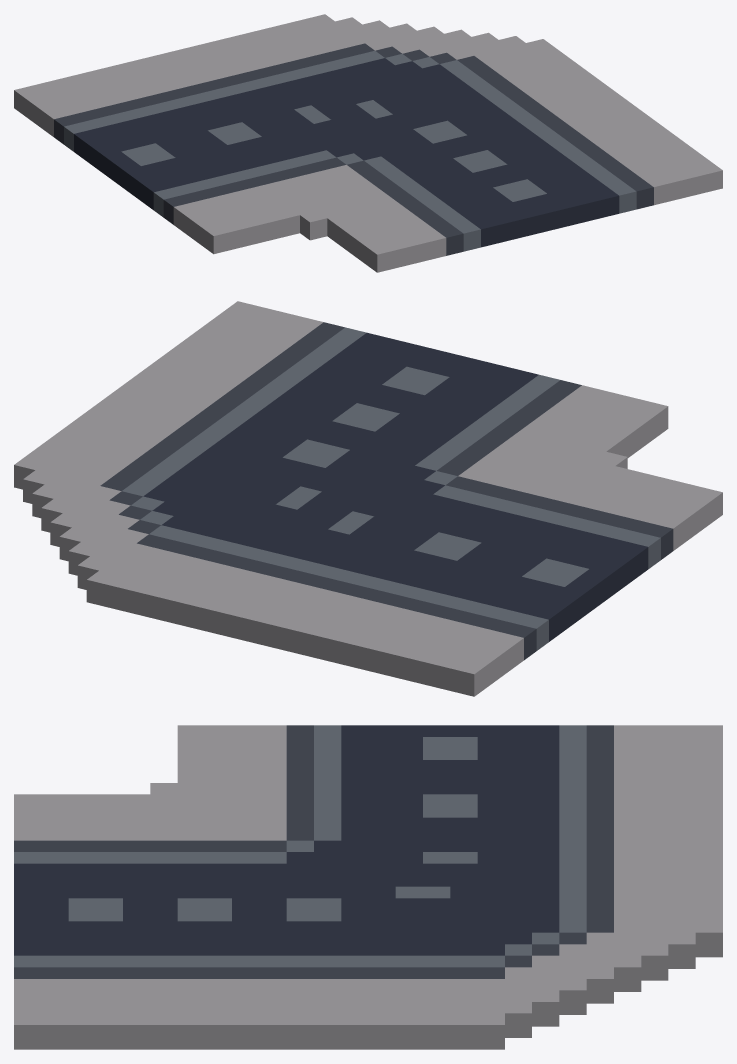
Rendered from Road(1)-4-road 5.obj.
3 renders of one model, top to bottom at view 1: azimuth 30°, elevation 25°; view 2: azimuth 150°, elevation 25°; view 3: azimuth 270°, elevation 25°, orthographic. The views are drawn at different scales.
Parts seen in each view (by area): view 1: road 5; view 2: road 5; view 3: road 5.
Part boxes in pixels (box(x1,y1,x2,y2)): road 5: box(14, 14, 722, 272); road 5: box(14, 301, 722, 696); road 5: box(14, 725, 722, 1049).
Size of the model in its own units: 2.6 by 0.1 by 2.6.
1 material, 1 textured.
